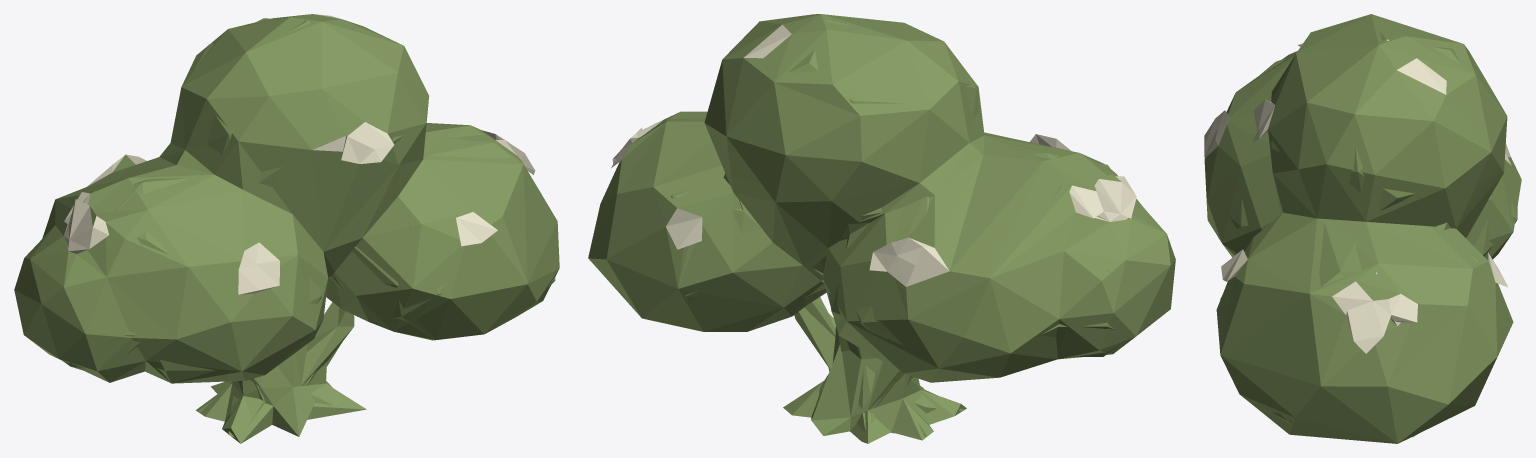
The model's file is ENV_09_HAWTHORN_game.glb.
3 views of the same model, side by side, from view 1: azimuth 30°, elevation 25°; view 2: azimuth 150°, elevation 25°; view 3: azimuth 270°, elevation 25° (orthographic). The views are drawn at different scales.
Parts seen in each view (by area): view 1: ENV_09_HAWTHORN; view 2: ENV_09_HAWTHORN; view 3: ENV_09_HAWTHORN.
Part boxes in pixels (box(x1,y1,x2,y2)): ENV_09_HAWTHORN: box(14, 14, 559, 443); ENV_09_HAWTHORN: box(588, 14, 1175, 443); ENV_09_HAWTHORN: box(1204, 14, 1521, 443).
Size of the model in its own units: 1.8 by 1.25 by 0.9313.
